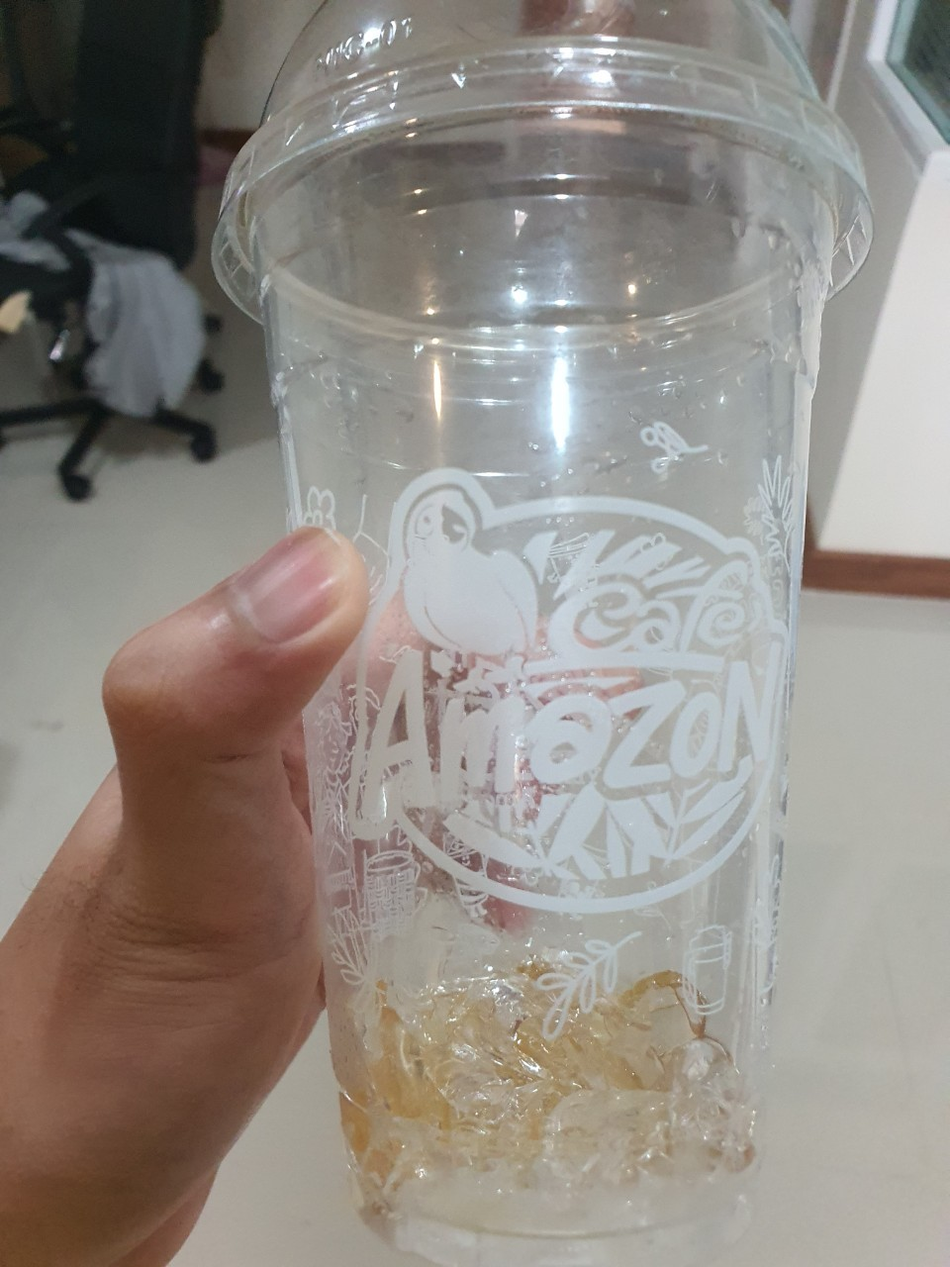plastic: (195, 11, 885, 1248)
